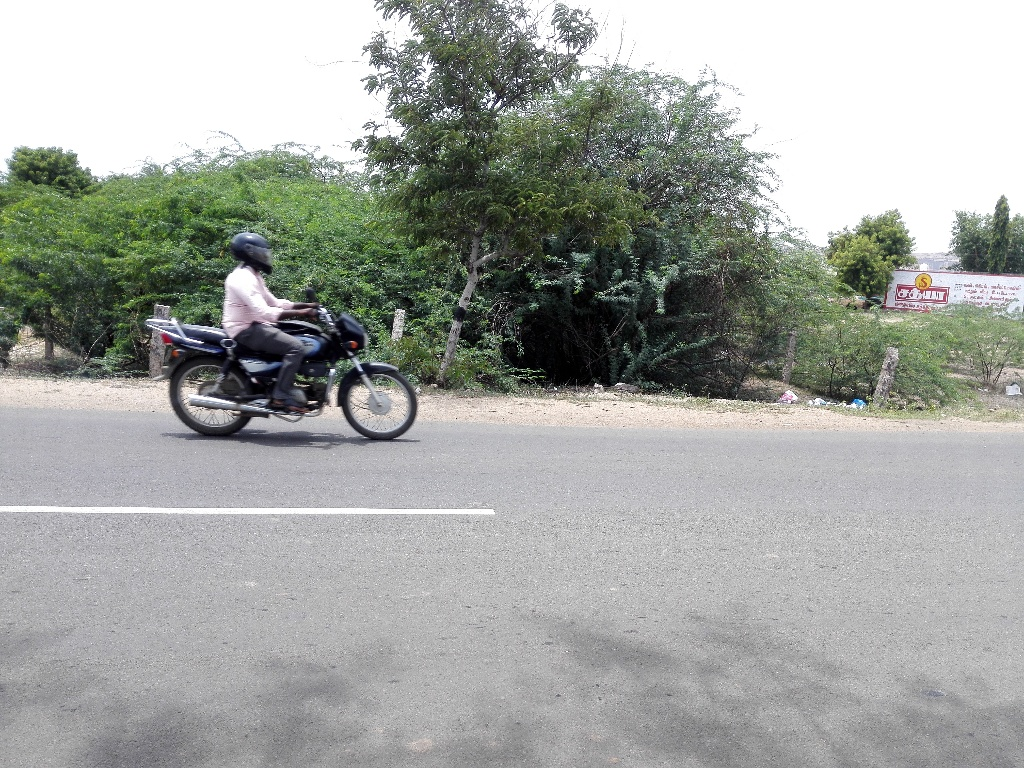biker: (124, 196, 436, 456)
helmet: (223, 222, 286, 285)
